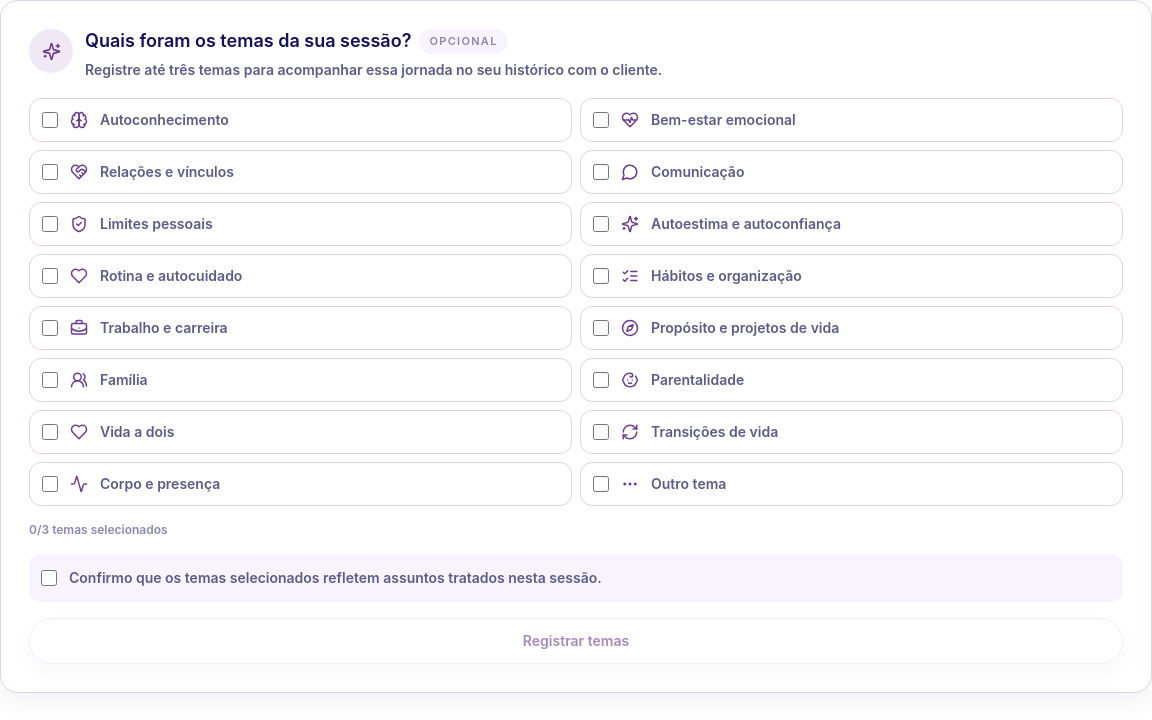
Test: TherapistJourneyThemesForm › saves the selection and renders immutable chips with their icons
Step 1. Click the checkbox labelled "Autoconhecimento" → coordinates (50, 120), box [42,112,58,128]
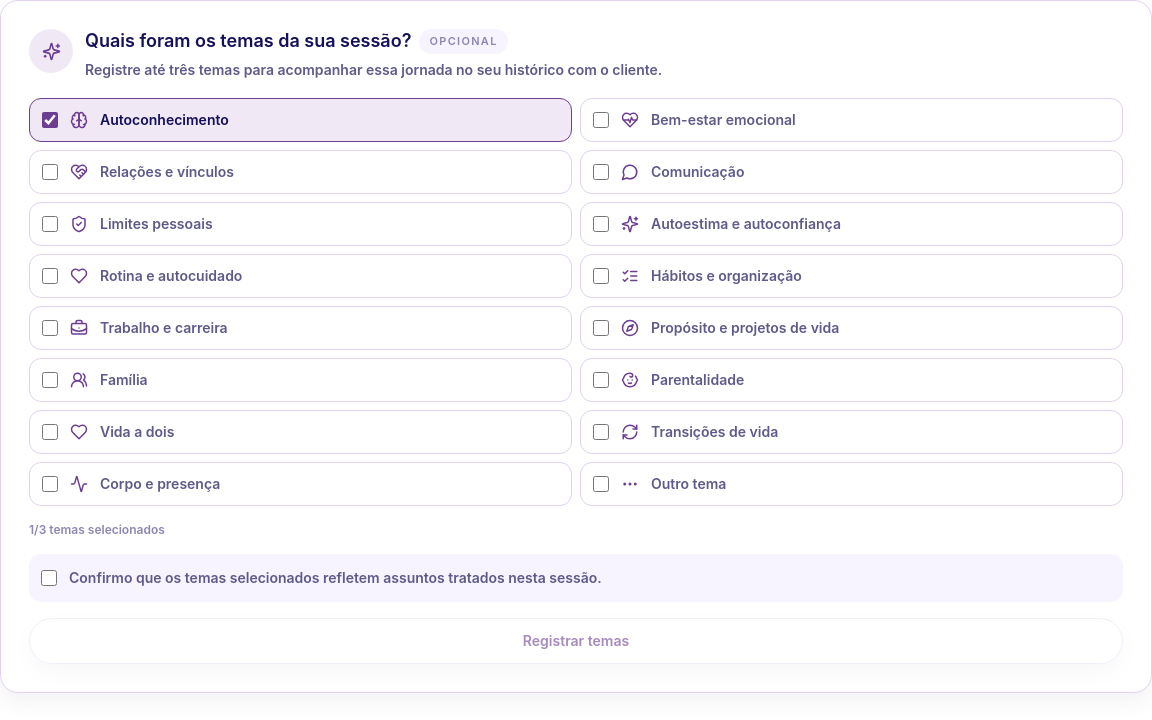
Step 2. Click the checkbox labelled "Comunicação" → coordinates (601, 172), box [593,164,609,180]
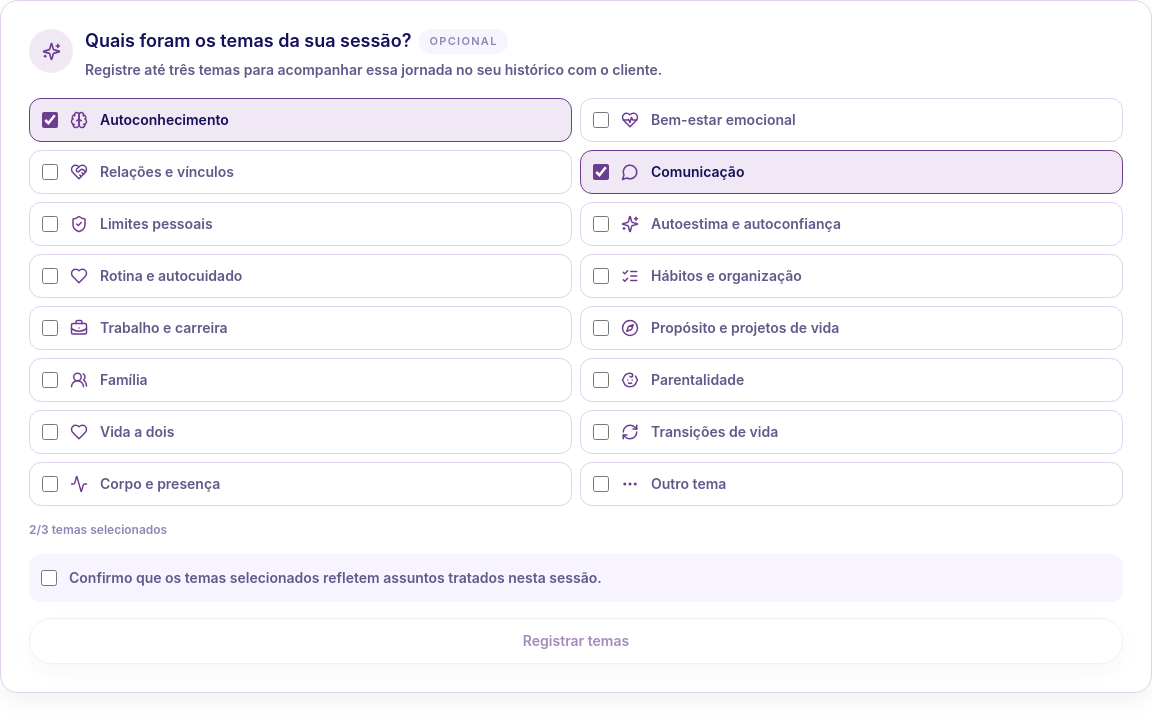
Step 3. Click the checkbox labelled "Confirmo que os temas selecionados refletem assuntos tratados nesta sessão." → coordinates (49, 578), box [41,570,57,586]
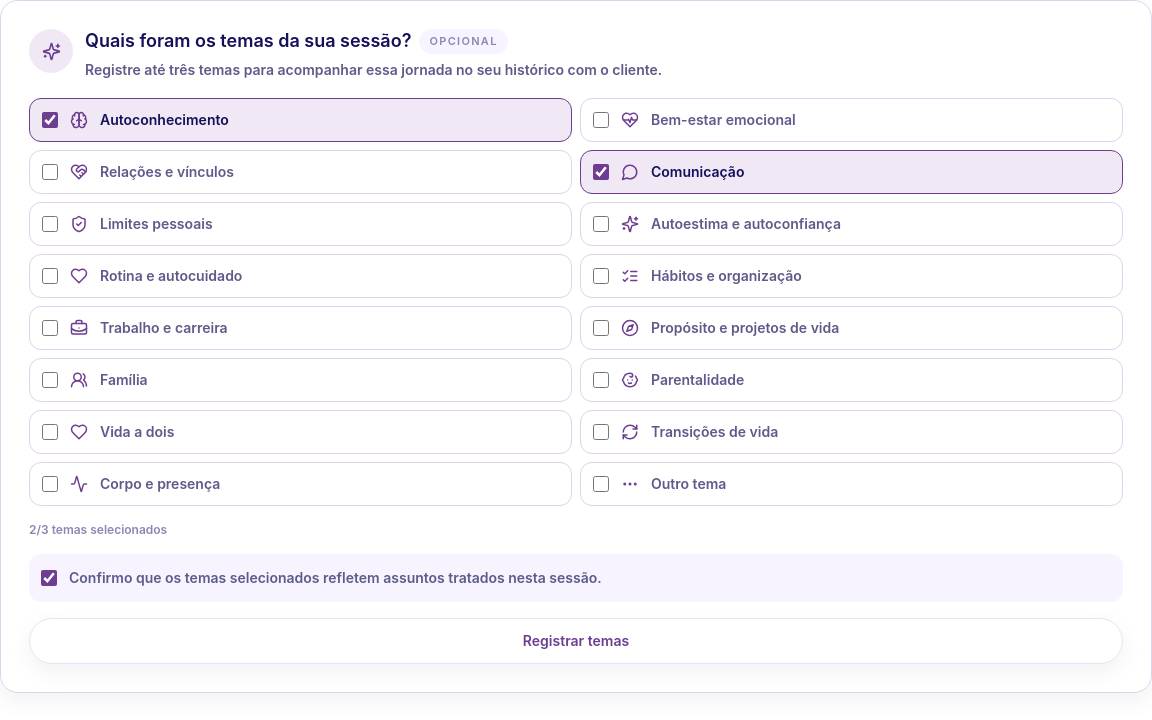
Step 4. Click the button "Registrar temas" → coordinates (576, 640), box [29,618,1123,664]
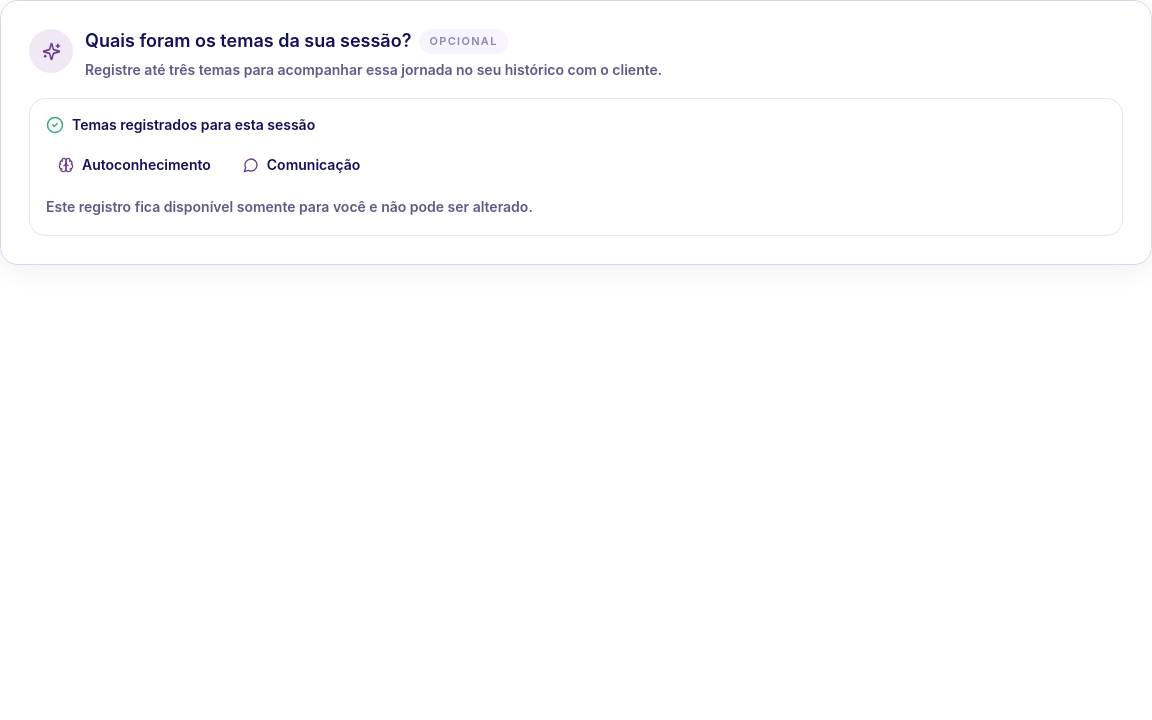
Expected: the text "Temas registrados para esta sessão" is shown, [46,116,315,134]
Expected: the number of list items is 2, [46,146,223,182]; [231,146,372,182]
Expected: the text "Este registro fica disponível somente para você e não pode ser alterado." is shown, [46,198,533,214]
